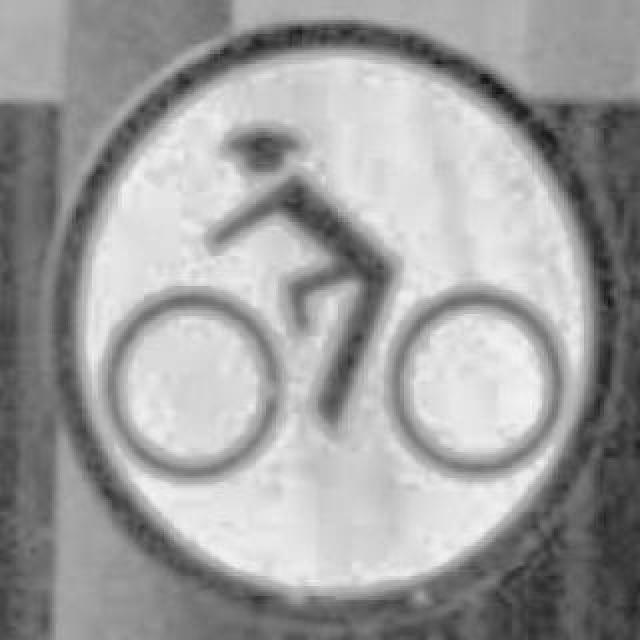bike lane: (42, 18, 614, 624)
